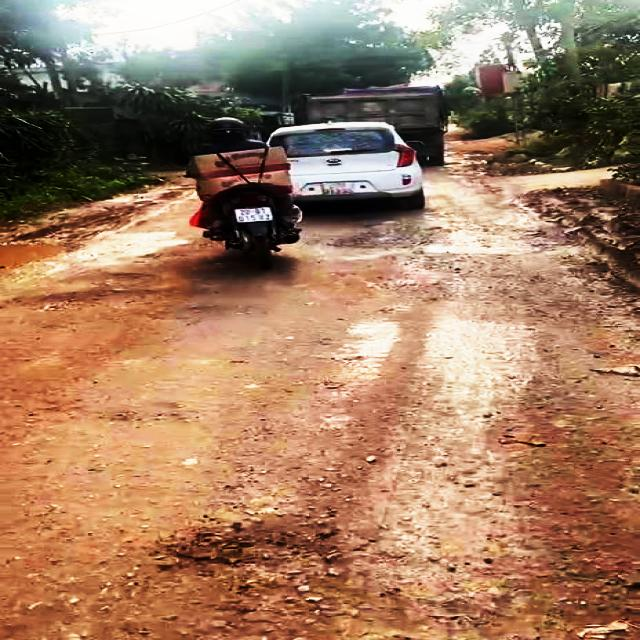pothole: (332, 226, 558, 257), (0, 228, 92, 270)
